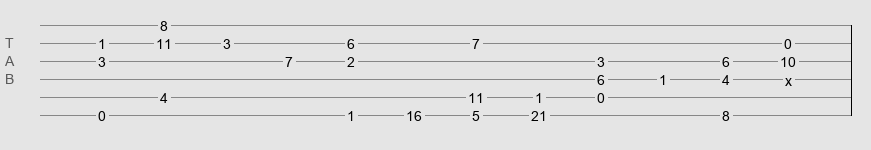0: (98, 108, 106, 118), (597, 90, 605, 100), (784, 36, 792, 46)
1: (98, 36, 106, 46), (347, 108, 355, 118), (535, 90, 543, 100), (659, 72, 667, 82)
10: (780, 54, 796, 64)
11: (156, 36, 172, 46), (468, 90, 484, 100)
16: (406, 108, 422, 118)
2: (347, 54, 355, 64)
21: (531, 108, 547, 118)
3: (98, 54, 106, 64), (223, 36, 231, 46), (597, 54, 605, 64)
4: (160, 90, 168, 100), (722, 72, 730, 82)
5: (472, 108, 480, 118)
6: (347, 36, 355, 46), (597, 72, 605, 82), (722, 54, 730, 64)
7: (285, 54, 293, 64), (472, 36, 480, 46)
8: (160, 18, 168, 28), (722, 108, 730, 118)
x: (785, 73, 792, 81)
